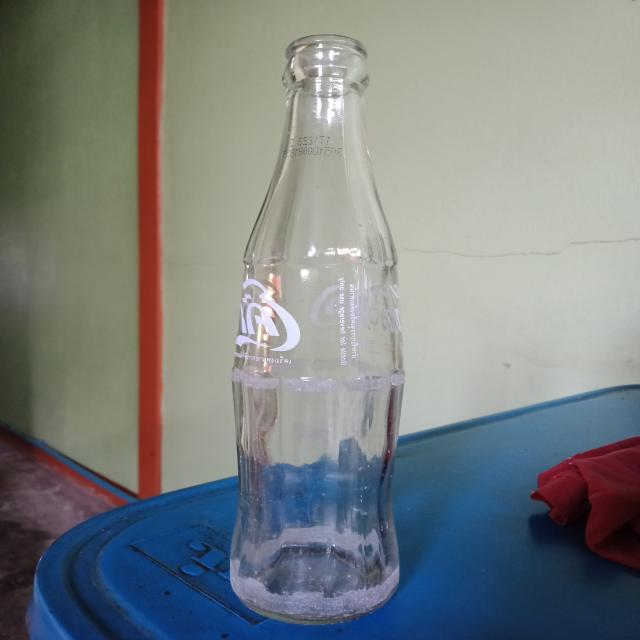glass: (228, 35, 406, 628)
